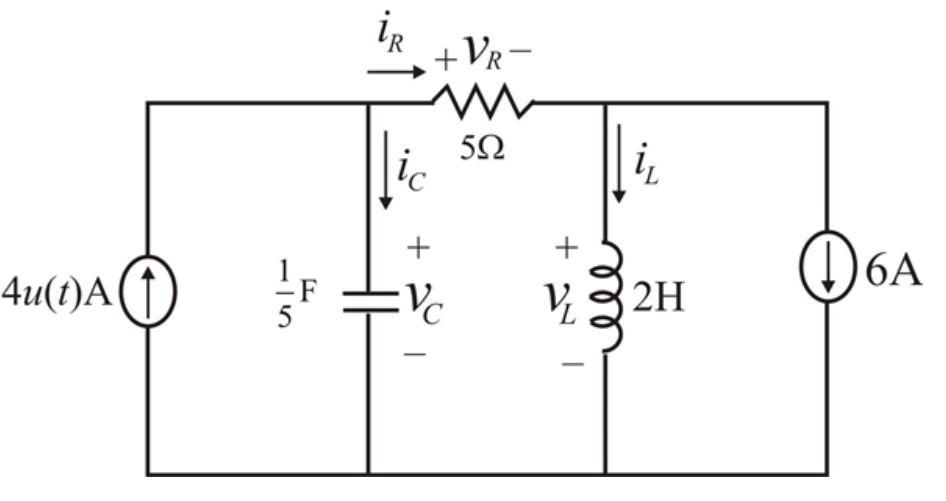Capacitor: (329, 256, 405, 344)
